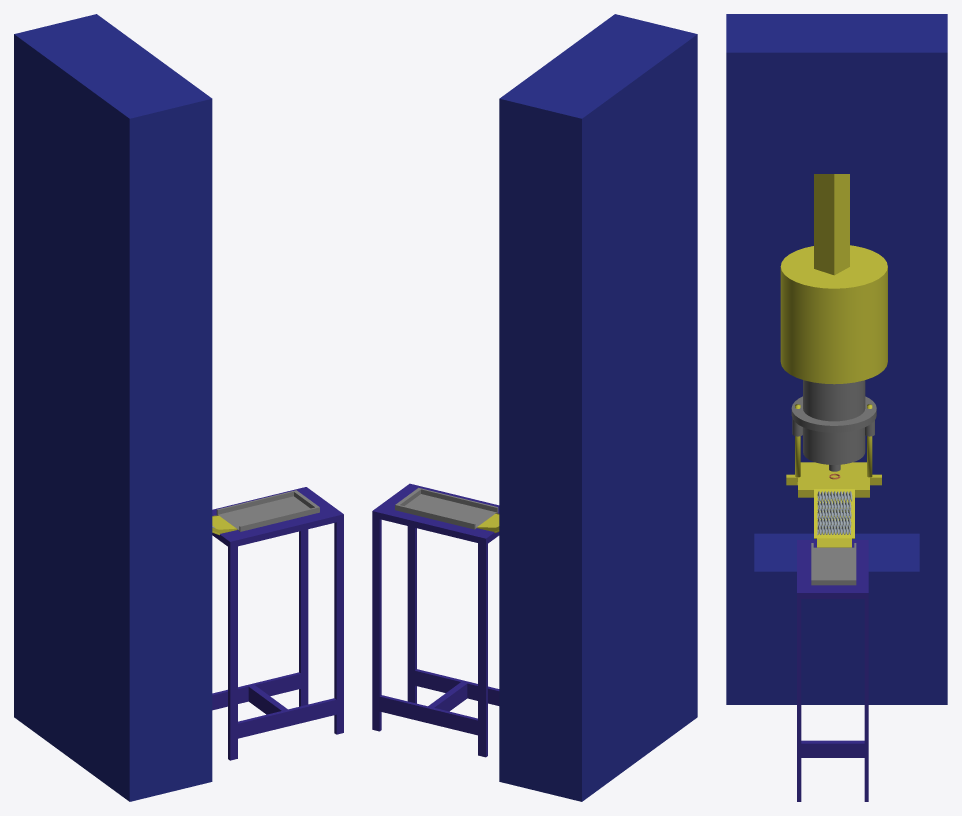
Rendered from press50wholecoloured.fbx.
3 views of the same model, side by side, from view 1: azimuth 30°, elevation 25°; view 2: azimuth 150°, elevation 25°; view 3: azimuth 270°, elevation 25° (orthographic). The views are drawn at different scales.
Parts seen in each view (by area): view 1: Cube.003, Cube.002, Cube.001; view 2: Cube.003, Cube.002, Cube.001; view 3: Cube.003, Cylinder, Cylinder.001, Cube.002, Plane, Cube.001.
Part boxes in pixels (bbox=[...]): Cube.003: bbox=[14, 14, 212, 801]; Cube.002: bbox=[212, 487, 343, 760]; Cube.001: bbox=[216, 490, 319, 531]; Cube.003: bbox=[499, 14, 697, 801]; Cube.002: bbox=[372, 483, 499, 757]; Cube.001: bbox=[395, 487, 498, 529]; Cube.003: bbox=[726, 14, 947, 704]; Cylinder: bbox=[780, 174, 887, 384]; Cylinder.001: bbox=[791, 380, 876, 471]; Cube.002: bbox=[797, 540, 868, 801]; Plane: bbox=[786, 404, 881, 547]; Cube.001: bbox=[811, 543, 856, 585].
Bounding box in the file's own units: 608 × 1625 × 485.
